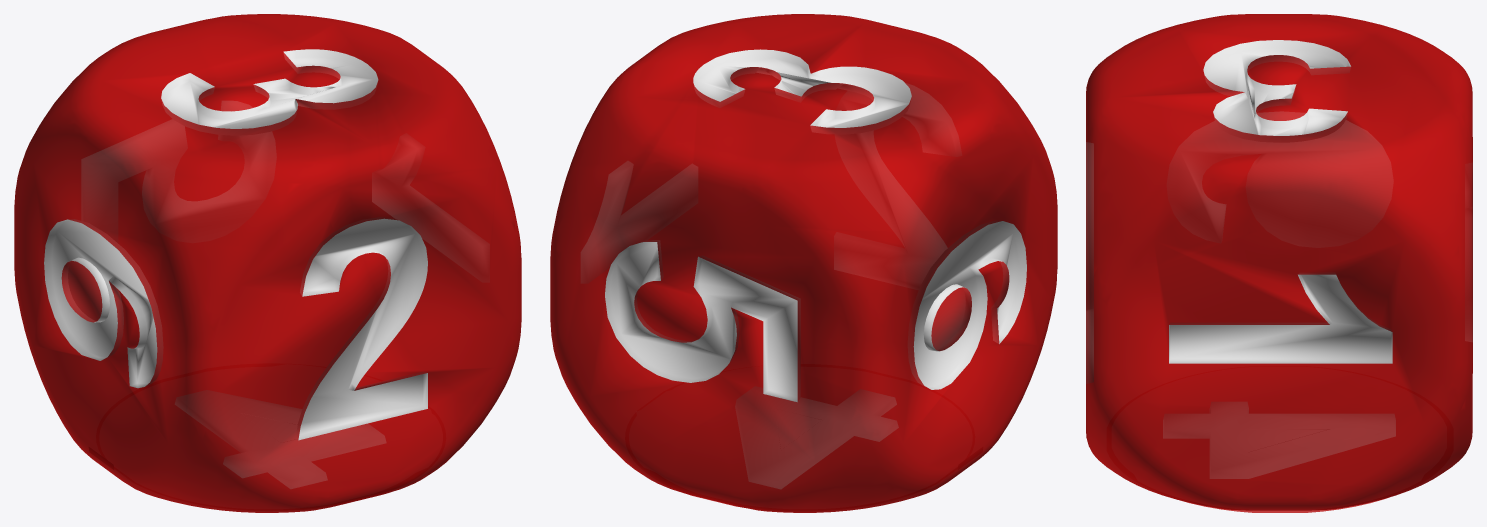
Rendered from d6_numbers_rounded.fbx.
3 views of the same model, side by side, from view 1: azimuth 30°, elevation 25°; view 2: azimuth 150°, elevation 25°; view 3: azimuth 270°, elevation 25° (orthographic).
Parts seen in each view (by area): view 1: 6_Sided_R0; view 2: 6_Sided_R0; view 3: 6_Sided_R0.
Boxes of the visible parts, <box> form: 6_Sided_R0: <box>14,14,521,512</box>; 6_Sided_R0: <box>550,14,1057,512</box>; 6_Sided_R0: <box>1086,14,1472,512</box>.
Size of the model in its own units: 8.34 by 8.34 by 8.34.
